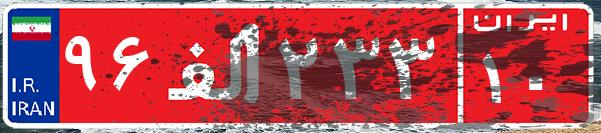0: (525, 38, 570, 115)
1: (475, 38, 525, 113)
2: (273, 28, 330, 110)
3: (385, 28, 445, 110), (330, 28, 385, 110)
6: (110, 28, 158, 105)
9: (57, 26, 110, 107)
الف: (158, 15, 273, 115)
